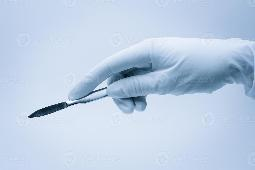scalpel: (28, 87, 114, 119)
